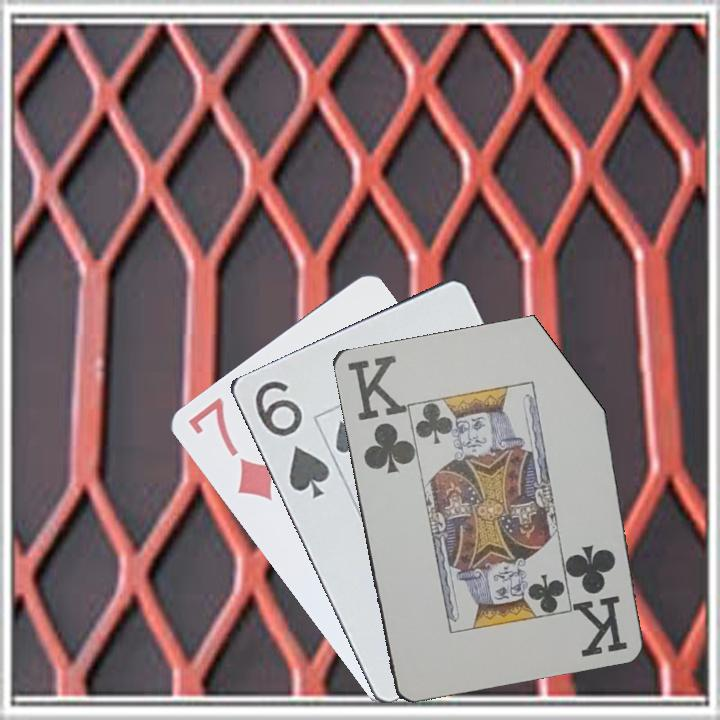6s: (250, 377, 332, 502)
7d: (183, 393, 276, 504)
Kc: (343, 351, 415, 480), (567, 540, 630, 658)
